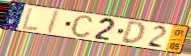2: (92, 16, 118, 44), (144, 26, 169, 49)
C: (69, 14, 95, 39)
D: (120, 21, 146, 46)
I: (45, 9, 62, 35)
L: (20, 6, 39, 32)
